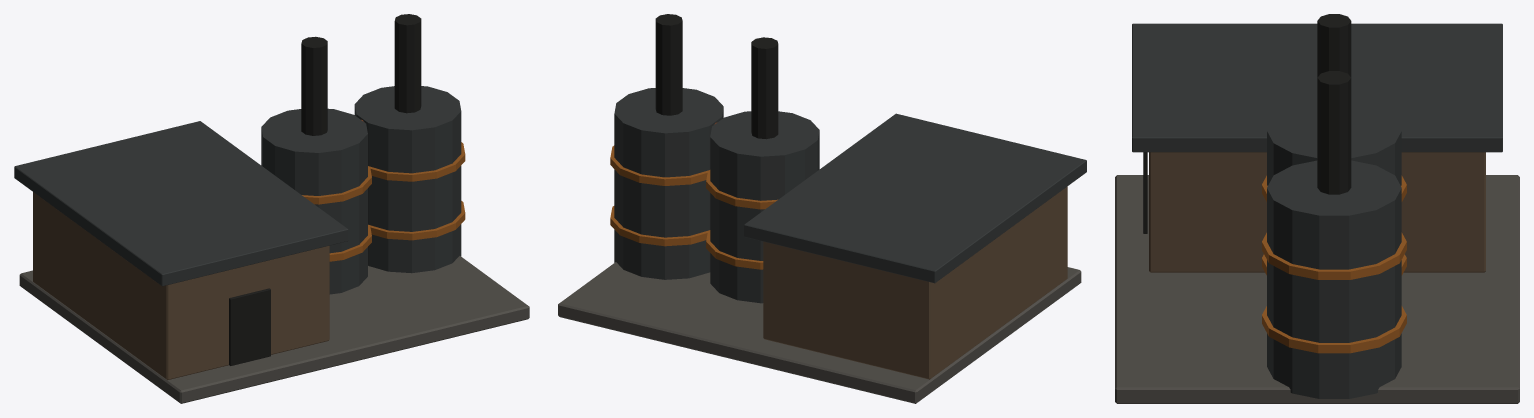
Rendered from BrassBoilerStation.glb.
3 views of the same model, side by side, from view 1: azimuth 30°, elevation 25°; view 2: azimuth 150°, elevation 25°; view 3: azimuth 270°, elevation 25° (orthographic). The views are drawn at different scales.
Parts seen in each view (by area): view 1: BrassBoilerStation; view 2: BrassBoilerStation; view 3: BrassBoilerStation.
Part boxes in pixels (bbox=[...]): BrassBoilerStation: bbox=[14, 14, 529, 403]; BrassBoilerStation: bbox=[558, 14, 1086, 403]; BrassBoilerStation: bbox=[1115, 14, 1519, 403].
Size of the model in its own units: 32.19 by 20 by 24.
Materials: 1 (1 with a texture image).
